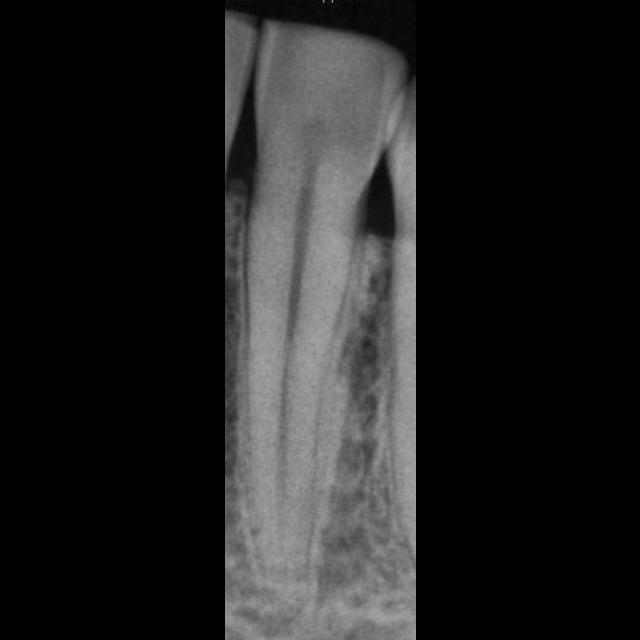tooth: (244, 18, 410, 622)
